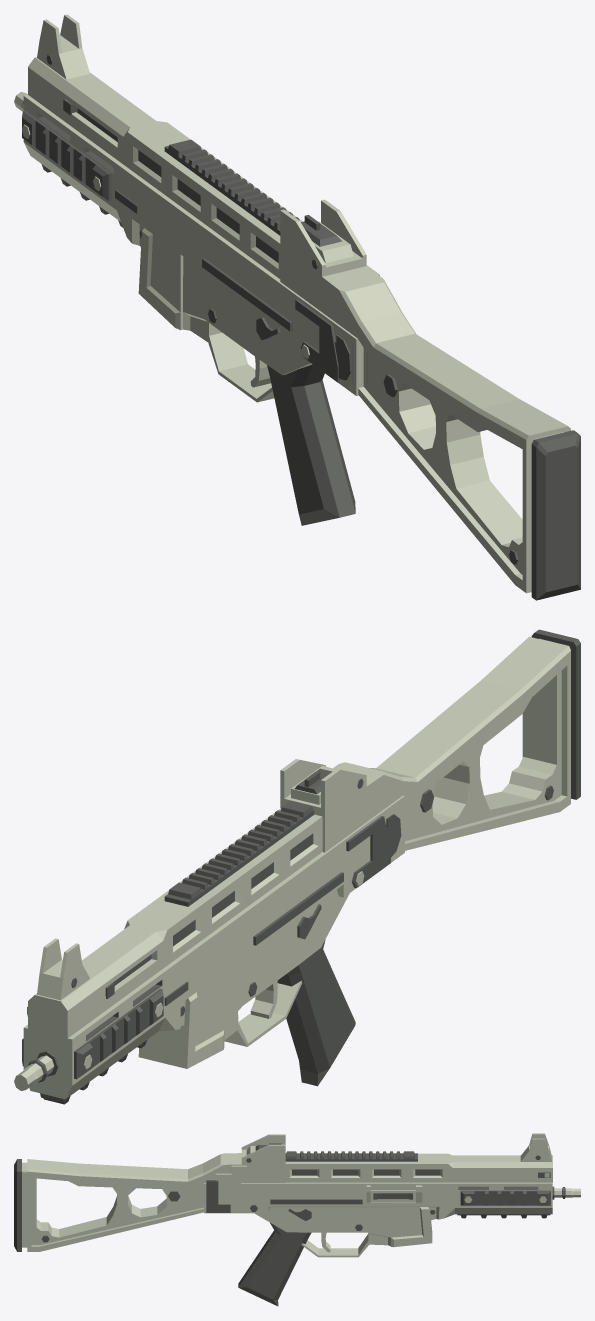
File: Submachine gun_Blue.fbx
3 renders of one model, top to bottom at view 1: azimuth 30°, elevation 25°; view 2: azimuth 150°, elevation 25°; view 3: azimuth 270°, elevation 25°, orthographic. The views are drawn at different scales.
Visible parts, largest first — view 1: Submachine gun.002; view 2: Submachine gun.002, Submachine gun_trigger.001; view 3: Submachine gun.002.
Part boxes in pixels (x1=…): Submachine gun.002: x1=14, y1=14, x2=580, y2=600; Submachine gun.002: x1=14, y1=629, x2=580, y2=1104; Submachine gun_trigger.001: x1=250, y1=980, x2=277, y2=1018; Submachine gun.002: x1=14, y1=1133, x2=580, y2=1306.
Size of the model in its own units: 46.53 by 226 by 690.
